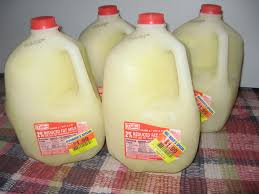milk: (9, 20, 105, 163), (114, 13, 196, 172), (182, 5, 243, 132), (84, 6, 138, 63)
